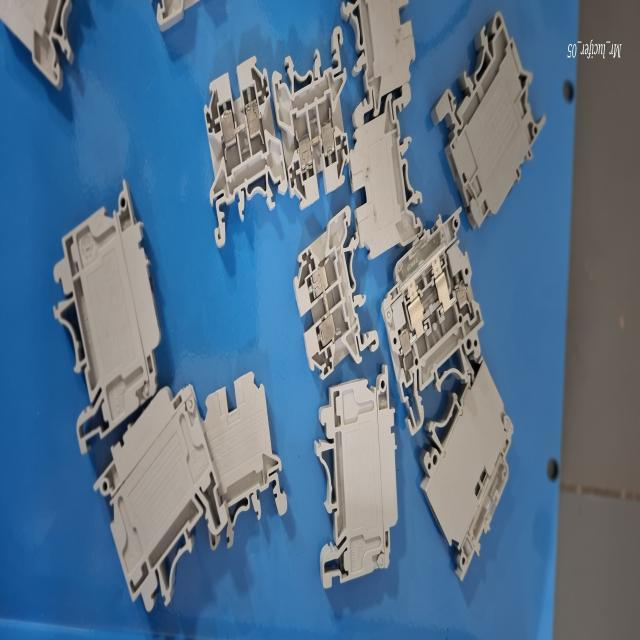Inverted: (192, 357, 292, 541), (348, 76, 426, 270), (337, 0, 428, 128)
Pass: (190, 53, 276, 256), (288, 205, 379, 383), (270, 20, 348, 224)
